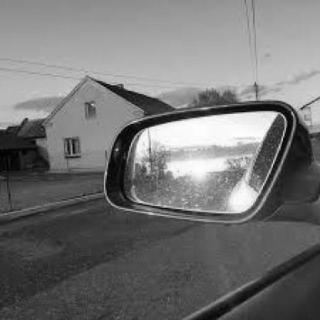other: (179, 156, 225, 180)
